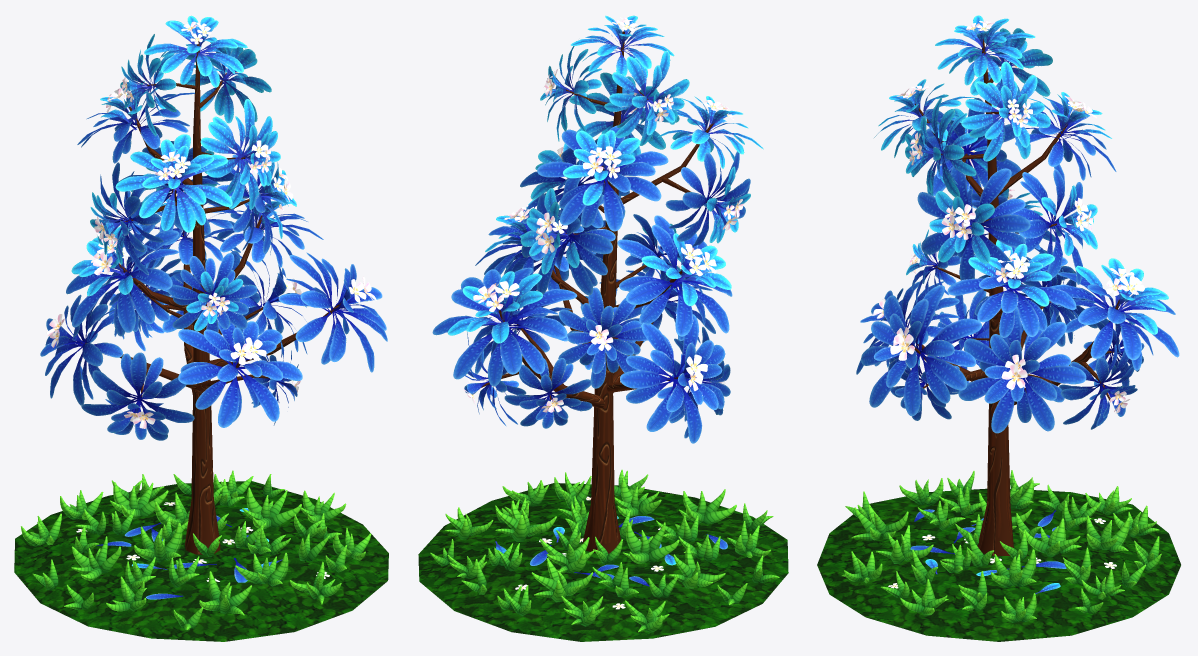
The model's file is stylized_hand_painted_tree.glb.
The picture shows the model from 3 angles, left to right: view 1: azimuth 30°, elevation 25°; view 2: azimuth 150°, elevation 25°; view 3: azimuth 270°, elevation 25°; orthographic projection. The views are drawn at different scales.
Visible parts, largest first — view 1: Object_3, Object_2; view 2: Object_3, Object_2; view 3: Object_3, Object_2.
Part boxes in pixels (x1,y1,x2,y2): Object_3: [21, 15, 387, 630]; Object_2: [14, 481, 388, 641]; Object_3: [430, 15, 779, 632]; Object_2: [418, 483, 788, 641]; Object_3: [841, 15, 1179, 622]; Object_2: [817, 488, 1180, 641].
Size of the model in its own units: 3.06 by 5 by 3.08.
Materials: 2 (2 with a texture image).
